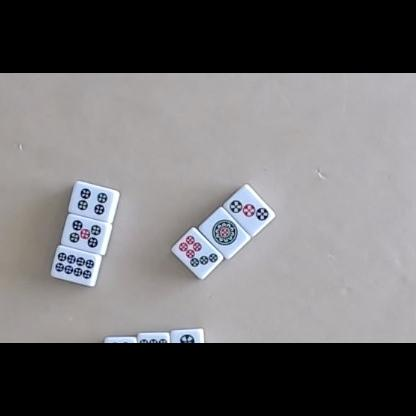1p: (212, 219, 238, 246)
2p: (179, 333, 196, 343)
3p: (229, 200, 270, 222)
4p: (77, 187, 108, 216)
5p: (69, 219, 101, 248)
6p: (109, 340, 132, 343)
7p: (178, 235, 219, 267)
8p: (54, 252, 95, 279)
9p: (138, 338, 169, 343)
